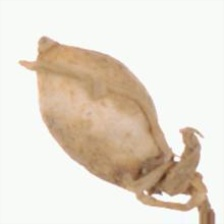L1: (125, 145, 213, 212), (20, 32, 55, 70)
L2: (18, 34, 216, 210)
